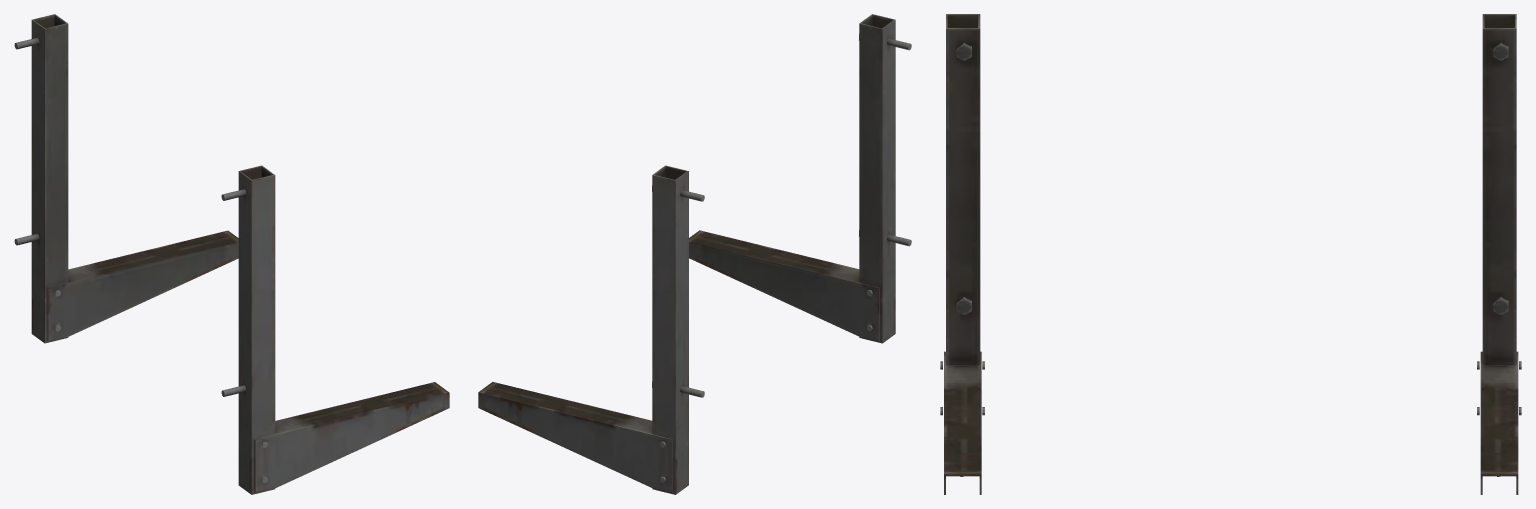
File: aircon_small_mount.glb
The picture shows the model from 3 angles, left to right: view 1: azimuth 30°, elevation 25°; view 2: azimuth 150°, elevation 25°; view 3: azimuth 270°, elevation 25°; orthographic projection. The views are drawn at different scales.
Visible parts, largest first — view 1: aircon_small_mount; view 2: aircon_small_mount; view 3: aircon_small_mount.
Part boxes in pixels (box(x1,y1,x2,y2)): aircon_small_mount: box(14, 14, 449, 494); aircon_small_mount: box(478, 14, 911, 494); aircon_small_mount: box(940, 14, 1521, 494).
Bounding box in the file's own units: 0.6774 × 0.9313 × 1.2.
Materials: 1 (1 with a texture image).
